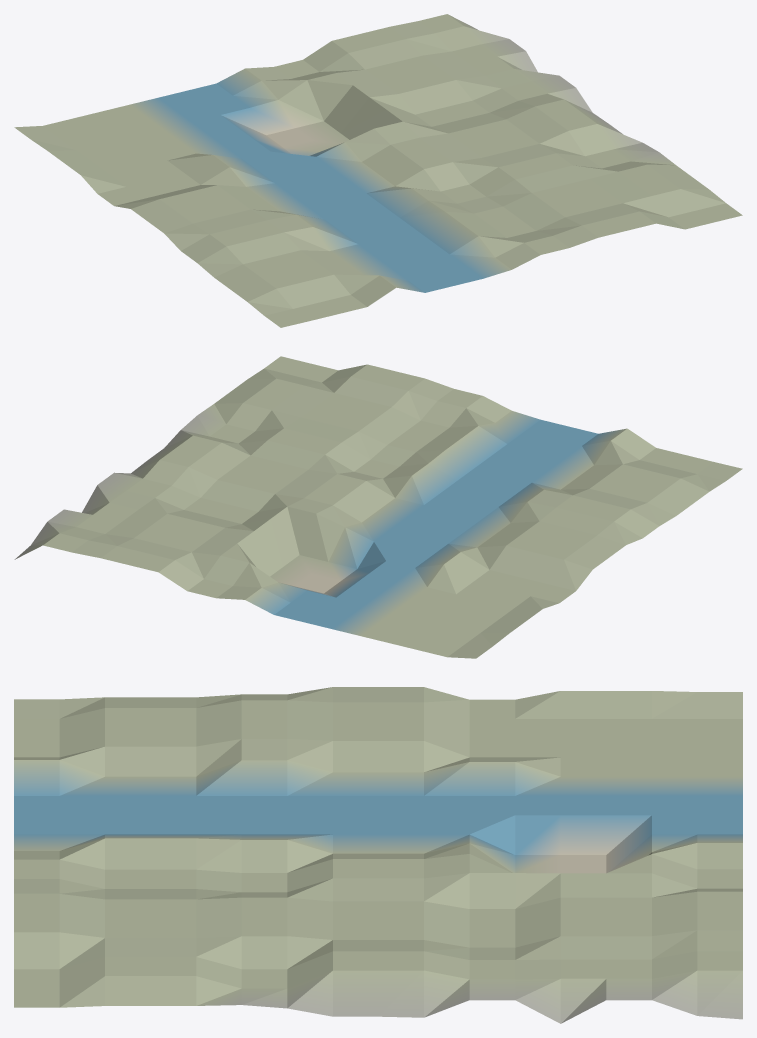
3 renders of one model, top to bottom at view 1: azimuth 30°, elevation 25°; view 2: azimuth 150°, elevation 25°; view 3: azimuth 270°, elevation 25°, orthographic. The views are drawn at different scales.
Size of the model in its own units: 32 by 1.96 by 32.
